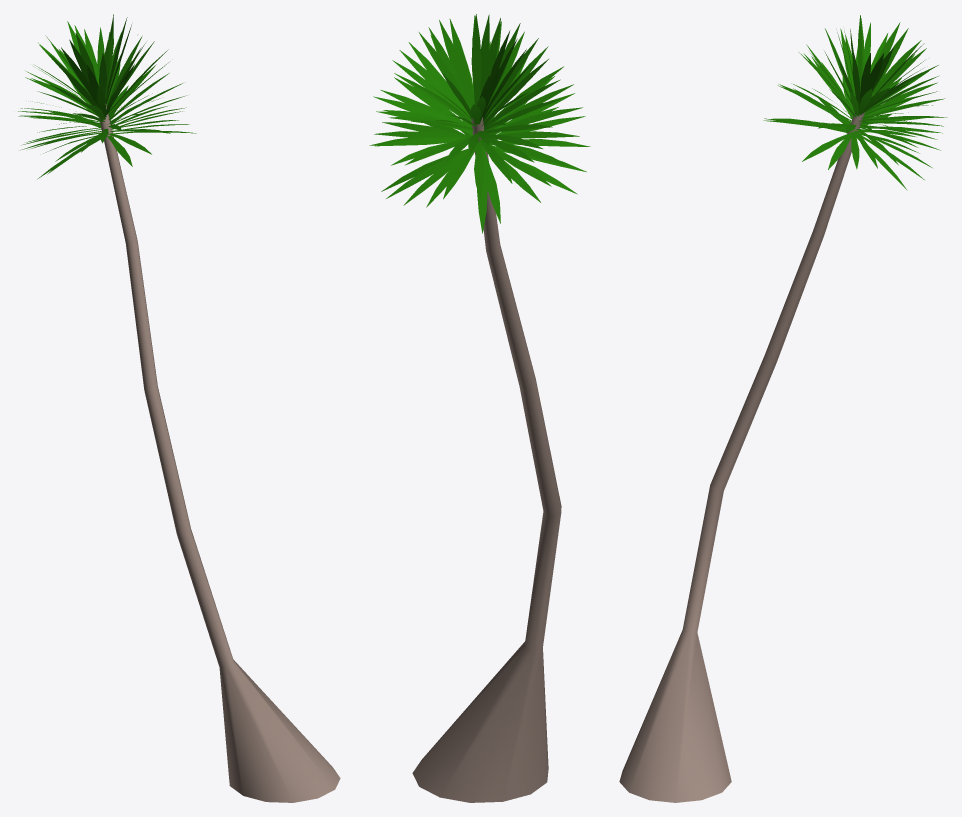
File: YukaTree_01.fbx
3 views of the same model, side by side, from view 1: azimuth 30°, elevation 25°; view 2: azimuth 150°, elevation 25°; view 3: azimuth 270°, elevation 25° (orthographic). The views are drawn at different scales.
Visible parts, largest first — view 1: Foliage001; view 2: Foliage001; view 3: Foliage001.
Part boxes in pixels (x1=…): Foliage001: x1=18, y1=14, x2=340, y2=802; Foliage001: x1=369, y1=14, x2=590, y2=802; Foliage001: x1=619, y1=15, x2=947, y2=802.
Size of the model in its own units: 102 by 134 by 319.
